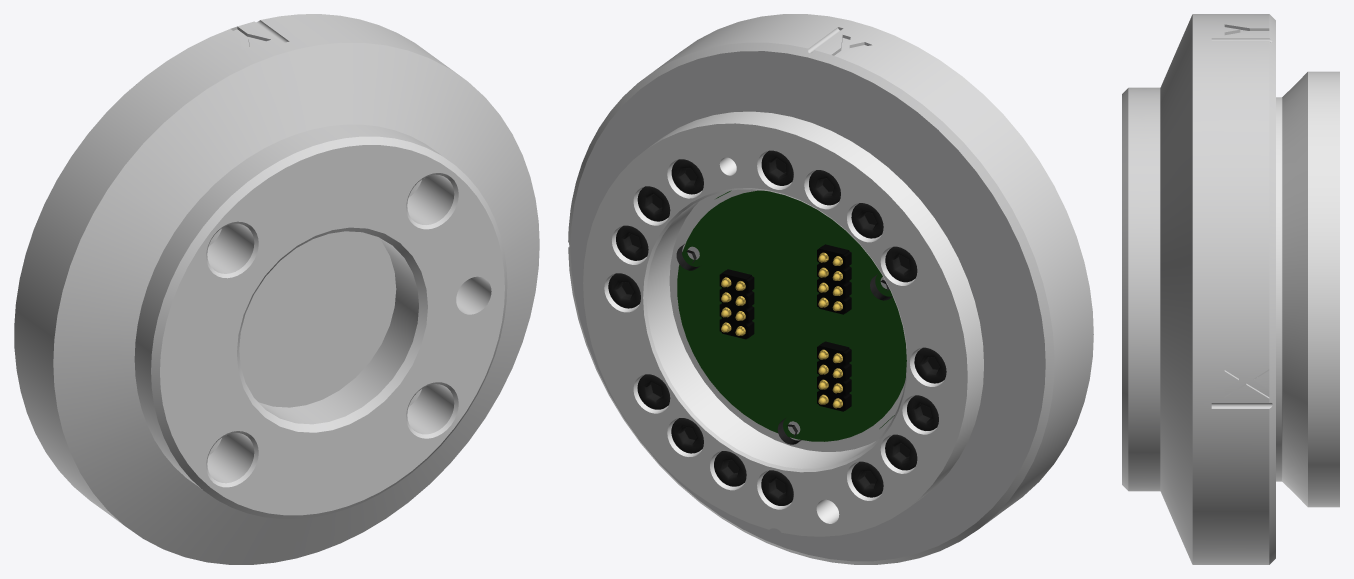
Rendered from 0804_E-simple-ISO50.glb.
3 renders of one model, left to right at view 1: azimuth 30°, elevation 25°; view 2: azimuth 150°, elevation 25°; view 3: azimuth 270°, elevation 25°, orthographic.
Visible parts, largest first — view 1: 0804_E-simple-ISO50.001; view 2: 0804_E-simple-ISO50.001; view 3: 0804_E-simple-ISO50.001.
Part boxes in pixels (bbox=[...]): 0804_E-simple-ISO50.001: bbox=[14, 14, 539, 564]; 0804_E-simple-ISO50.001: bbox=[568, 14, 1093, 564]; 0804_E-simple-ISO50.001: bbox=[1122, 14, 1339, 564].
Size of the model in its own units: 0.086 by 0.086 by 0.034.
